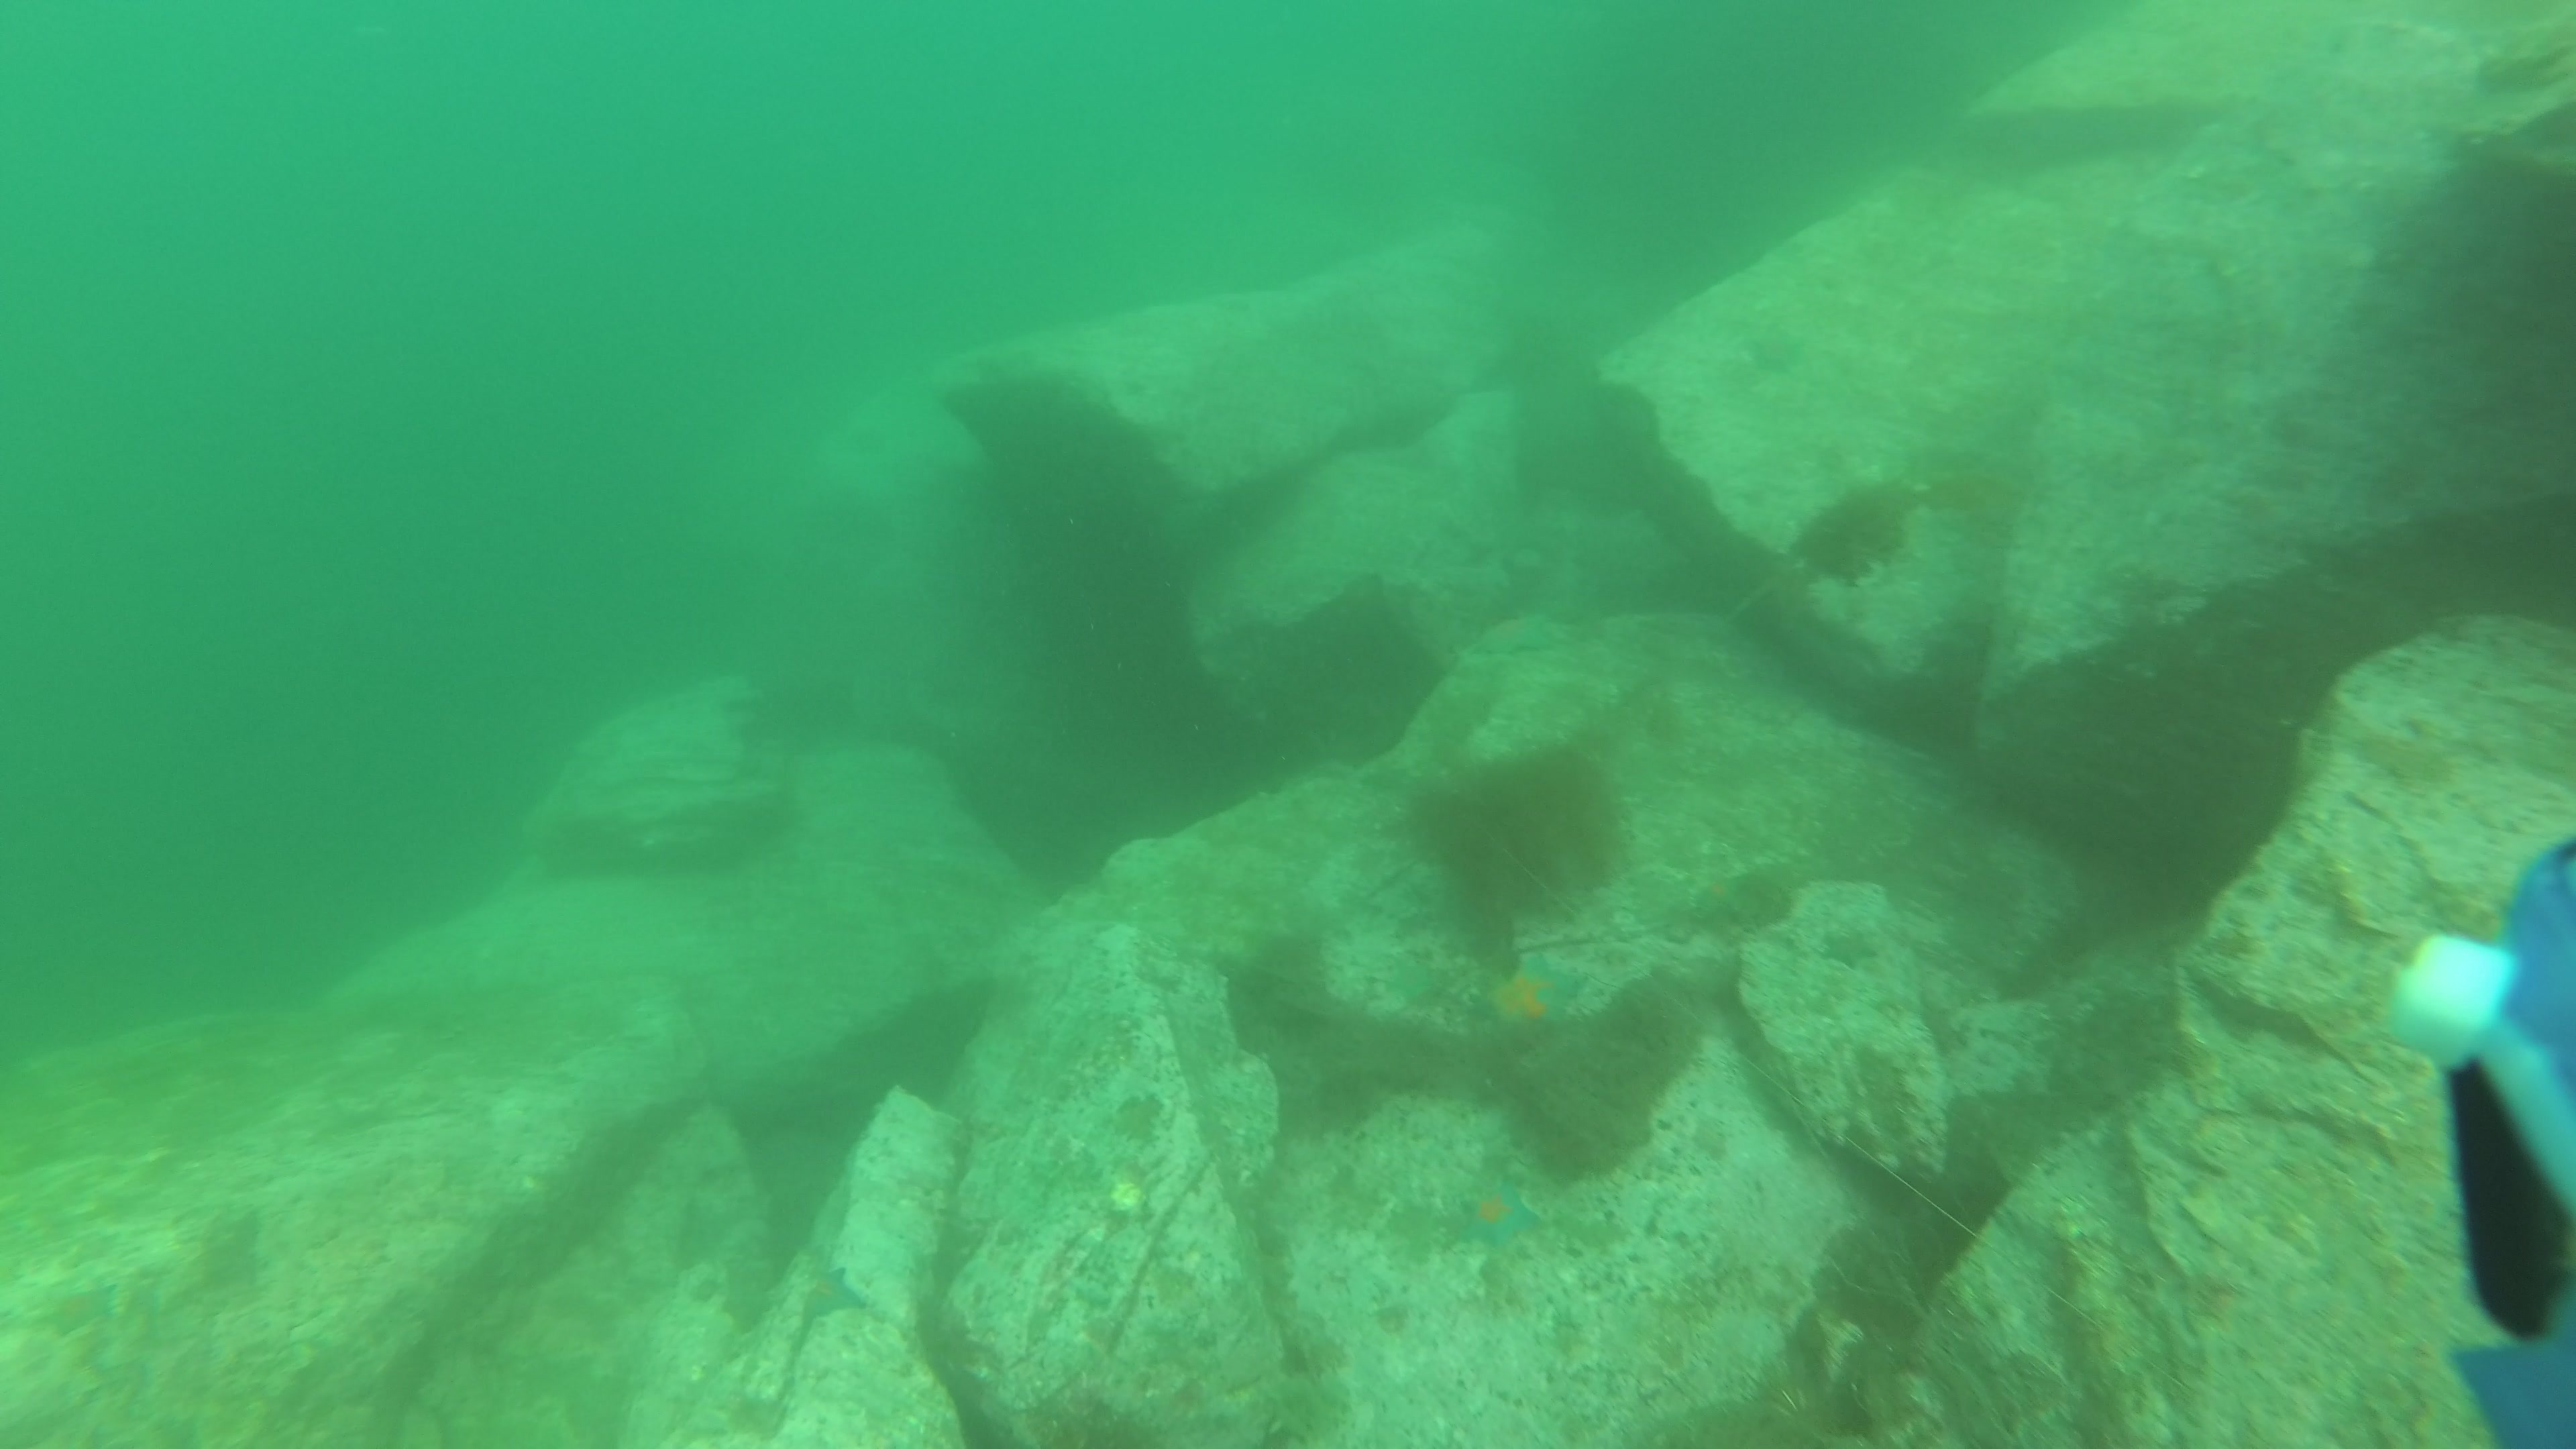starfish: (1470, 945, 1596, 1047), (1453, 1180, 1550, 1258), (34, 1277, 124, 1341), (796, 1265, 872, 1338)
